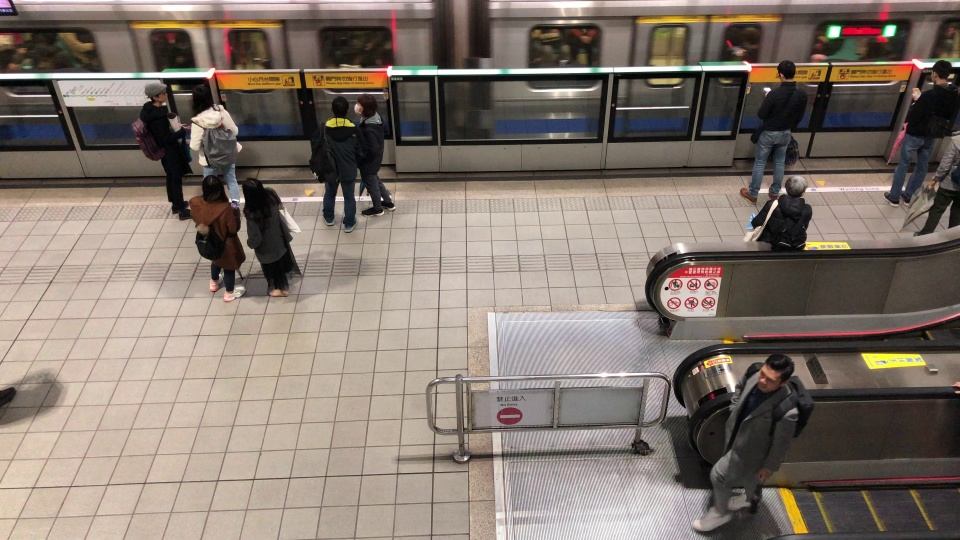person_head: (752, 353, 795, 398), (197, 174, 228, 206), (141, 82, 170, 107), (189, 84, 214, 111), (353, 93, 380, 118), (927, 61, 954, 85), (772, 59, 797, 84), (781, 176, 808, 199), (241, 176, 264, 200), (328, 97, 350, 118), (950, 113, 960, 133)
person_vbox: (691, 351, 815, 538), (877, 62, 960, 209), (736, 59, 811, 206), (124, 82, 195, 221), (180, 174, 249, 304), (304, 95, 364, 238), (236, 175, 303, 301), (898, 112, 960, 244), (176, 83, 244, 203), (348, 92, 397, 219), (743, 176, 814, 252)
